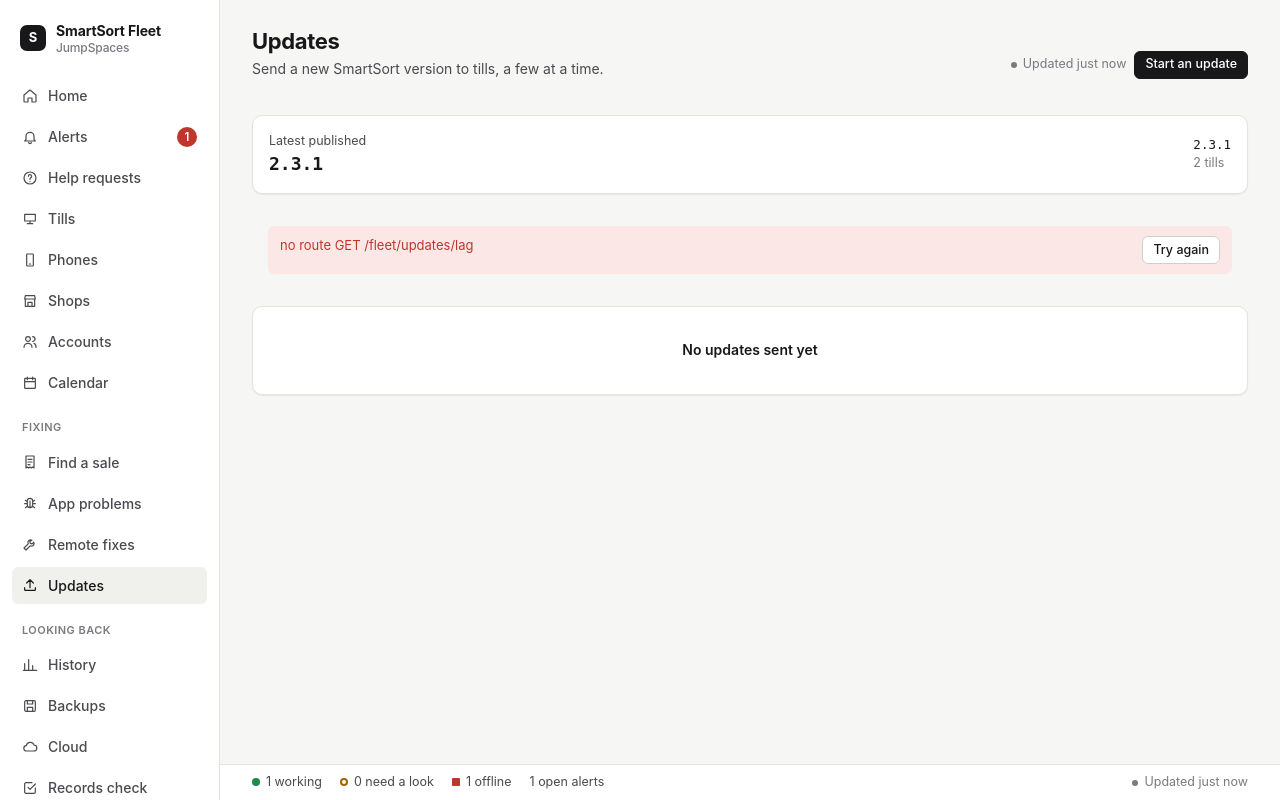
Test: Updates › refuses to start when no signed version is published
The image size is (1280, 800).
Click the button "Start an update".
click(1191, 64)  # box [1134,50,1248,78]
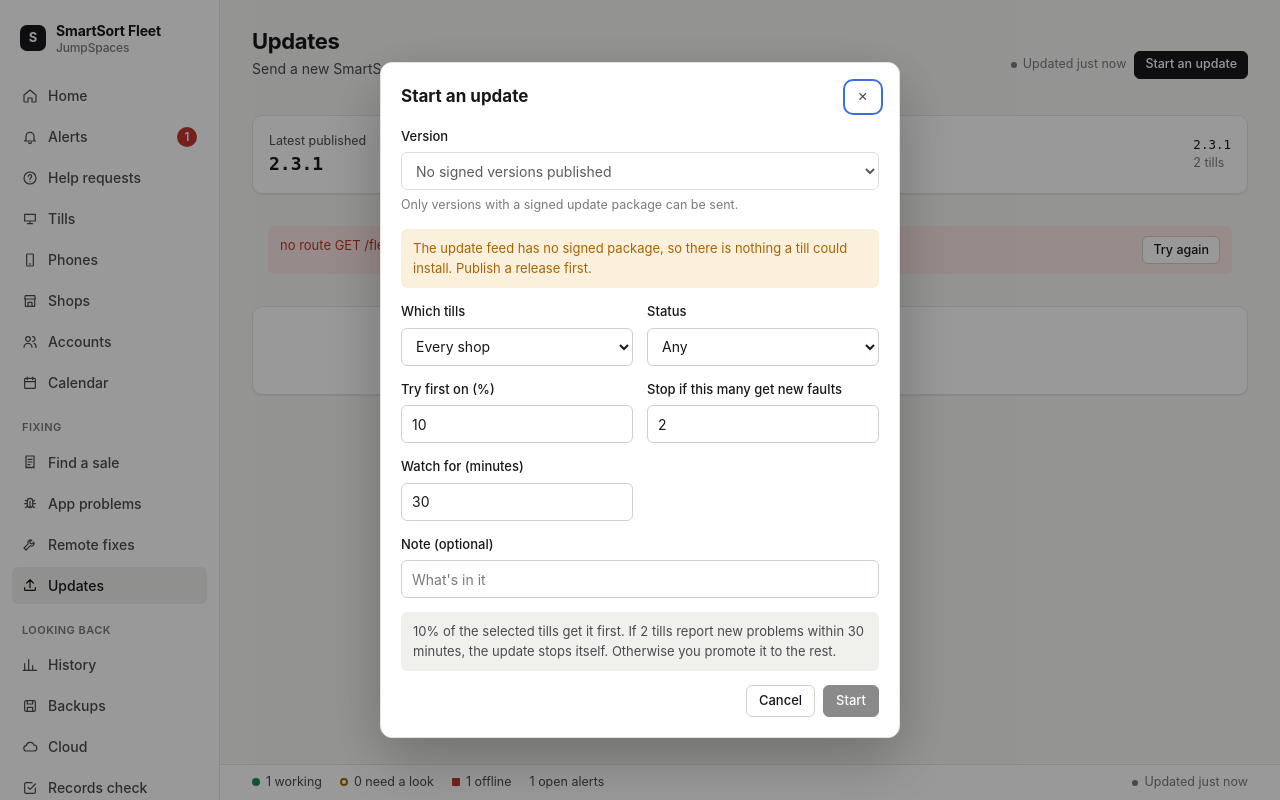
Check: the text "no signed package" is shown, box [413,240,847,276]
Check: the button "Start" is disabled, box [823,685,879,717]
